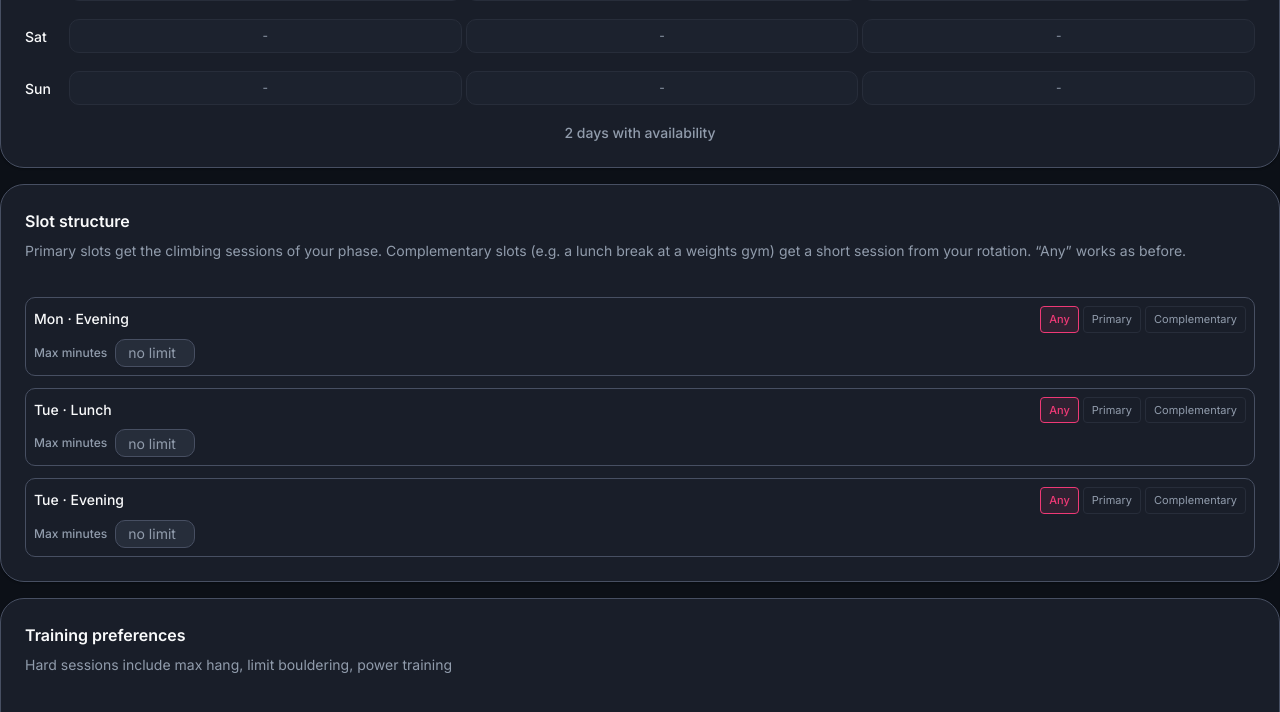
Test: AvailabilityEditor — A300 slot structure › an invalid max minutes disables the save
(page scrolled)
Type "5" into the 1st field labelled "Max minutes" at (155, 352), box x1=115 y1=338 x2=195 y2=366
(page scrolled)
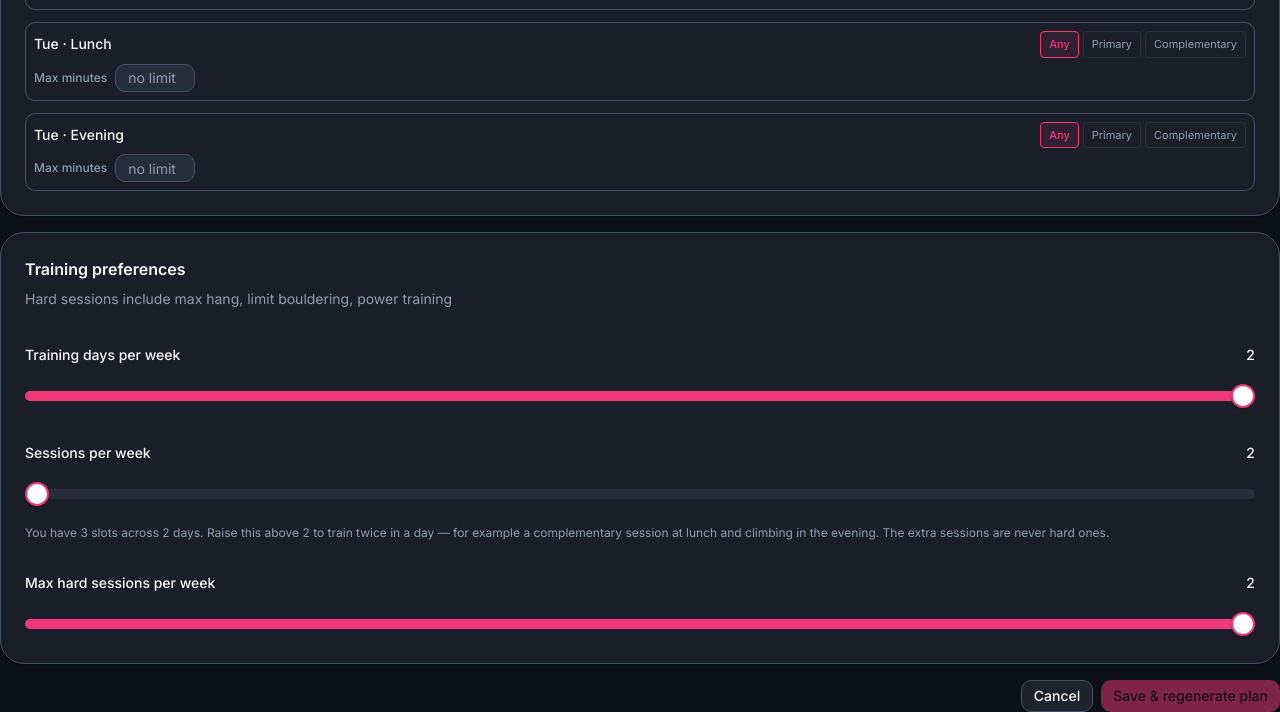
Check: the button "Save & regenerate plan" is disabled, box x1=1101 y1=680 x2=1279 y2=711
